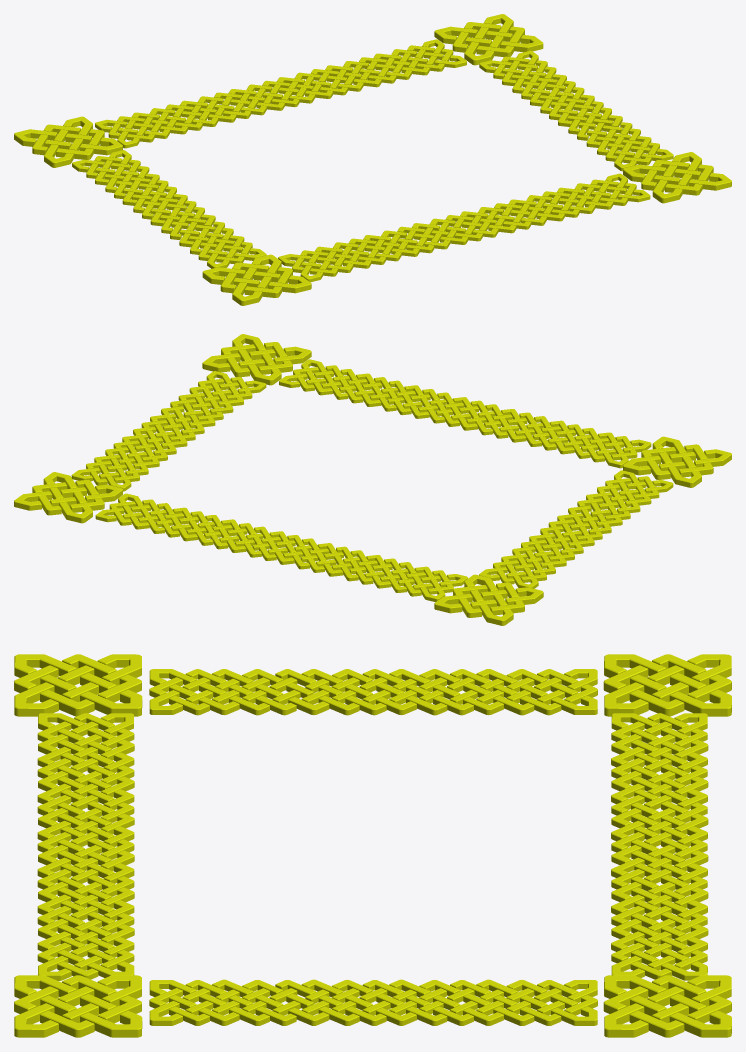
File: Dagr Border (Export).fbx
The picture shows the model from 3 angles, top to bottom: view 1: azimuth 30°, elevation 25°; view 2: azimuth 150°, elevation 25°; view 3: azimuth 270°, elevation 25°; orthographic projection. The views are drawn at different scales.
Parts seen in each view (by area): view 1: Border; view 2: Border; view 3: Border.
Part boxes in pixels (x1=…): Border: x1=14, y1=14, x2=731, y2=305; Border: x1=14, y1=334, x2=731, y2=625; Border: x1=14, y1=654, x2=731, y2=1037.
Bounding box in the file's own units: 712 × 7.5 × 576.
